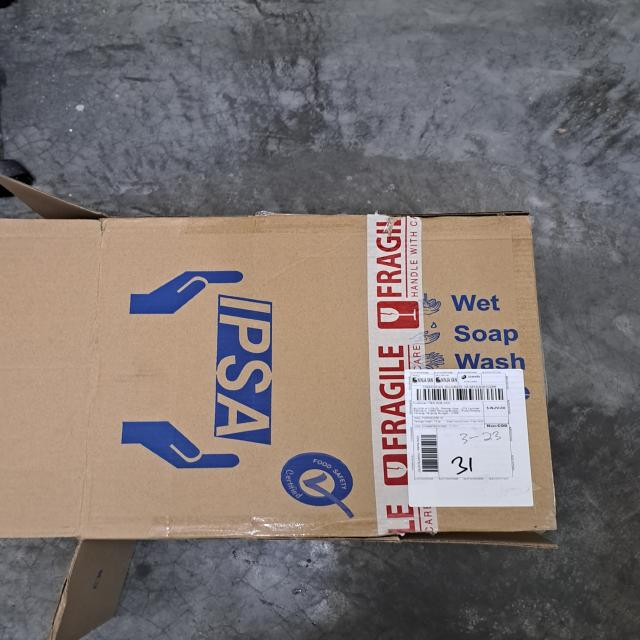cardboard: (0, 176, 583, 640)
